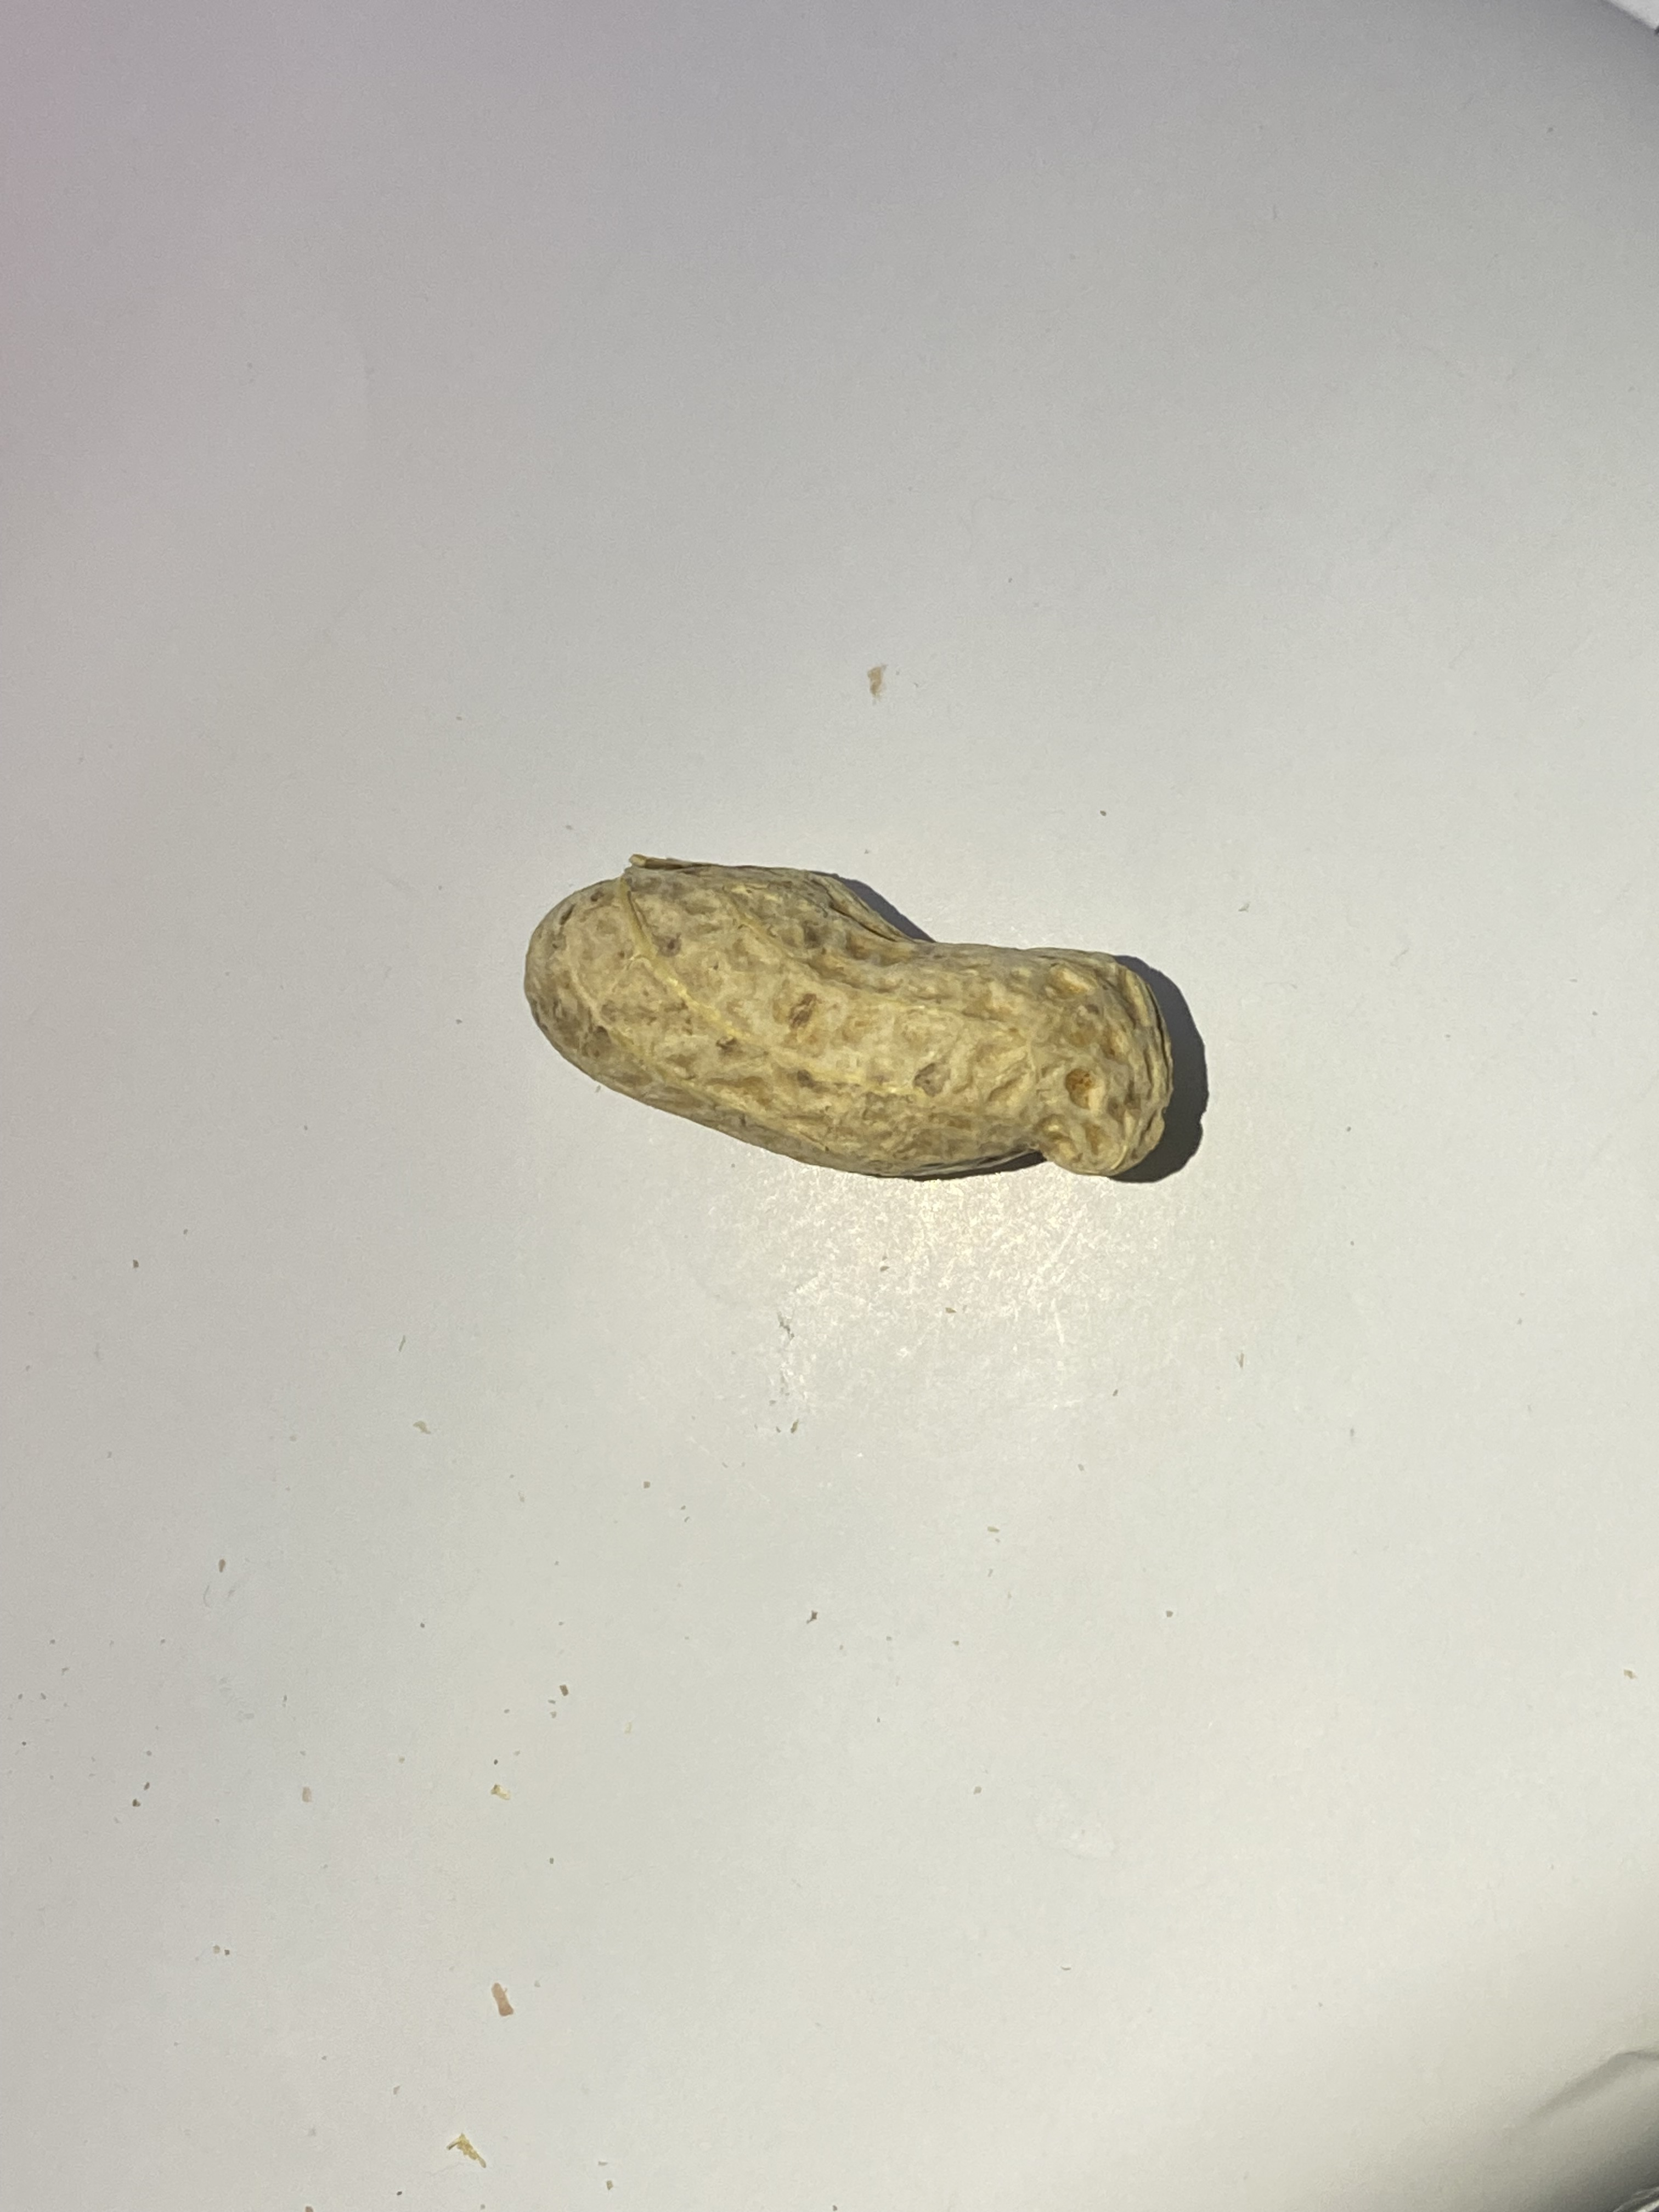kacang2: (477, 859, 1197, 1202)
